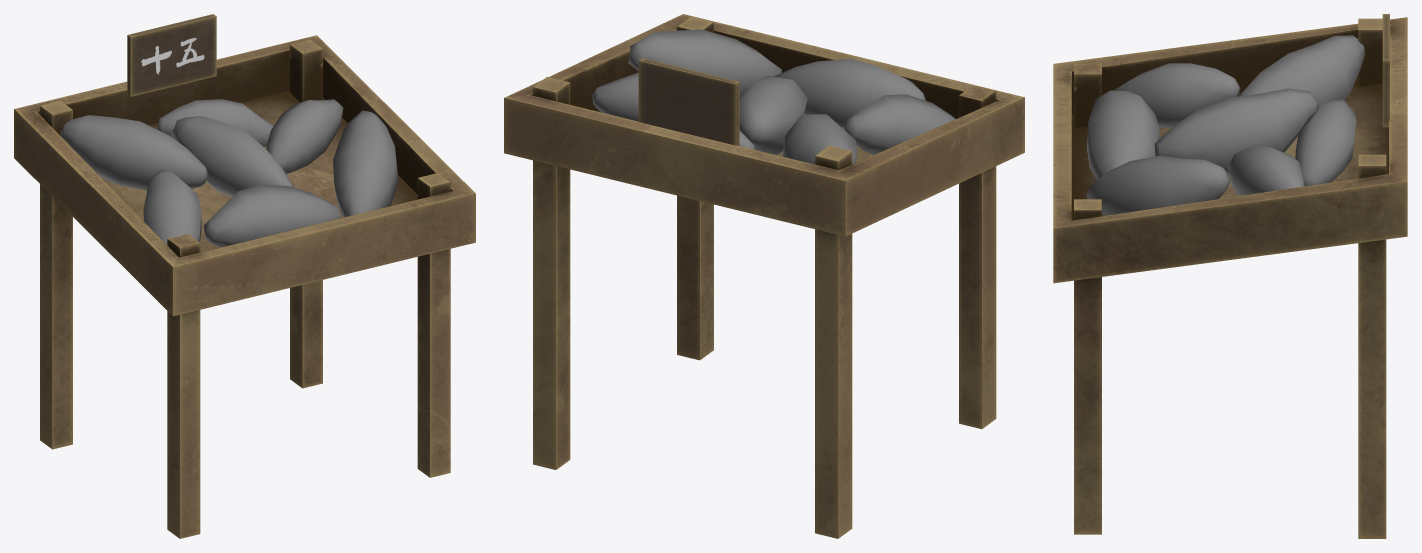
Rendered from SM_markettable_03.fbx.
3 renders of one model, left to right at view 1: azimuth 30°, elevation 25°; view 2: azimuth 150°, elevation 25°; view 3: azimuth 270°, elevation 25°, orthographic. The views are drawn at different scales.
Visible parts, largest first — view 1: Object32443; view 2: Object32443; view 3: Object32443.
Part boxes in pixels (x1,y1,x2,y2): Object32443: (14, 14, 475, 538); Object32443: (504, 14, 1024, 538); Object32443: (1053, 14, 1407, 538).
Size of the model in its own units: 38.69 by 46.69 by 35.18.
